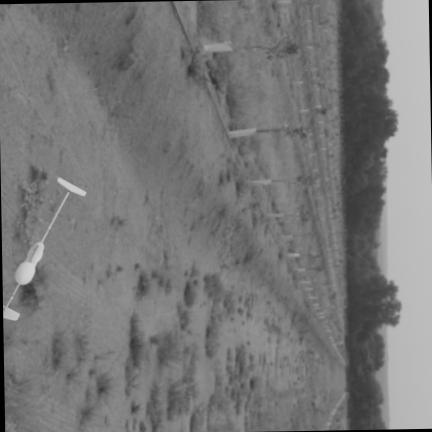Shahed: (2, 177, 85, 319)
